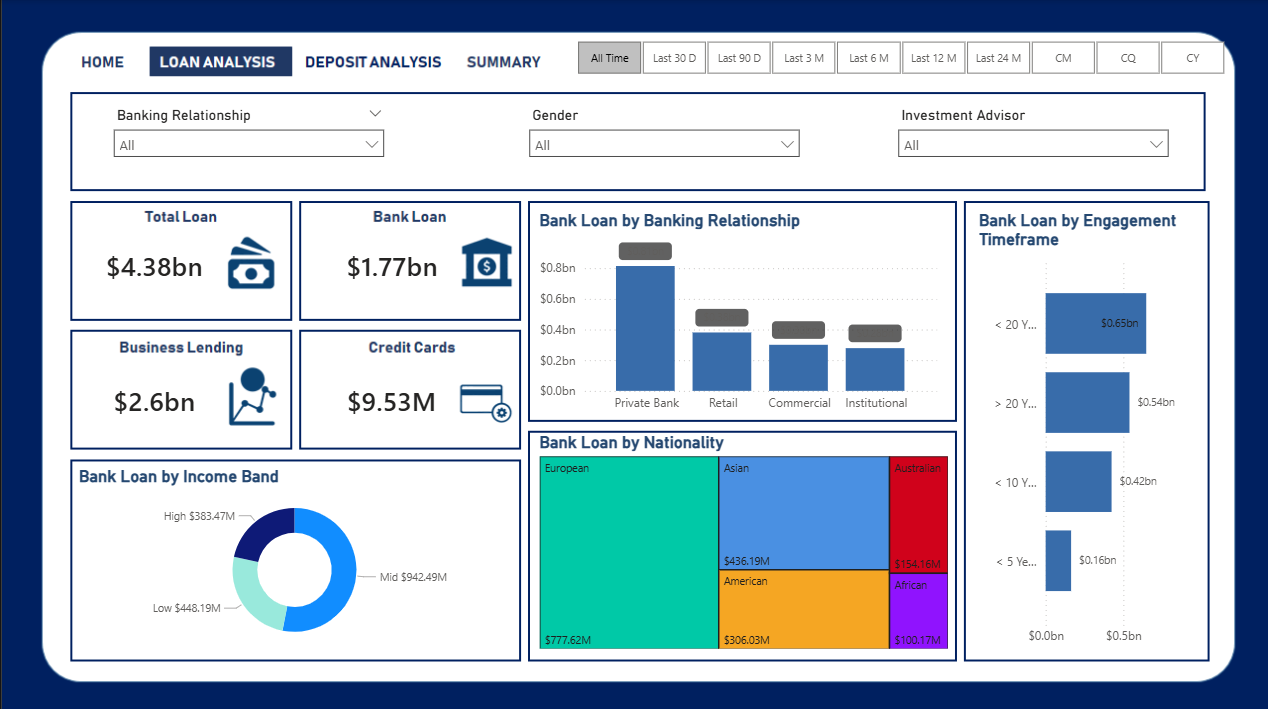

The page's visual inventory and layout, read from the dashboard file:
{"tool":"powerbi","page":{"name":"Loan Analysis","canvas":[1280,720],"ordinal":1},"visuals":[{"type":"card","fields":{"Values":["DAX Measures.Total Loan"]},"box":[72.7,224,161.8,90.3],"z":0},{"type":"card","fields":{"Values":["DAX Measures.Bank Loan"]},"box":[307.2,224,172.4,89.1],"z":1000},{"type":"card","fields":{"Values":["DAX Measures.Credit Cards"]},"box":[307.2,360,171.2,89.1],"z":2000},{"type":"card","fields":{"Values":["DAX Measures.Business Lending"]},"box":[72.7,360,161.8,89.1],"z":3000},{"type":"slicer","fields":{"Values":["Banking Relationship.Banking Relationship"]},"box":[102.3,103.4,292.9,75.7],"z":4000},{"type":"slicer","fields":{"Values":["Gender.Gender"]},"box":[522.7,103.4,292.9,75.7],"z":5000},{"type":"slicer","fields":{"Values":["Investment Advisor.Investment Advisor"]},"box":[895,103.4,292.9,75.7],"z":6000},{"type":"donutChart","fields":{"Category":["Clients - Banking.Income Band"],"Y":["DAX Measures.Bank Loan"]},"box":[72.7,471.4,444.4,188.8],"z":7000},{"type":"clusteredBarChart","fields":{"Category":["Clients - Banking.Engagement Timeframe"],"Y":["DAX Measures.Bank Loan"]},"box":[981.5,212.2,236.9,447.9],"z":8000},{"type":"treemap","fields":{"Group":["Clients - Banking.Nationality"],"Values":["DAX Measures.Bank Loan"]},"box":[538.2,436.2,422.1,224],"z":9000},{"type":"lineClusteredColumnComboChart","fields":{"Y":["DAX Measures.Bank Loan"],"Category":["Banking Relationship.Banking Relationship"]},"box":[538.2,212.2,411.6,212.2],"z":10000},{"type":"slicer","fields":{"Values":["Period.Name"]},"box":[555.2,34.6,702.1,46.6],"z":11000},{"type":"actionButton","box":[72.8,44.2,58.5,31],"z":12000},{"type":"actionButton","box":[306.9,44.7,119.4,31],"z":13000},{"type":"actionButton","box":[471.6,44.2,83.6,31],"z":14000}]}

Visuals, with their boxes in screenshot pixels (x1, y1, x2, y2), scaled from the page's 1280x720 canvas onto the 1268x709 screenshot:
card - DAX Measures.Total Loan: l=72, t=221, r=232, b=309
card - DAX Measures.Bank Loan: l=304, t=221, r=475, b=308
card - DAX Measures.Credit Cards: l=304, t=354, r=474, b=442
card - DAX Measures.Business Lending: l=72, t=354, r=232, b=442
slicer - Banking Relationship.Banking Relationship: l=101, t=102, r=391, b=176
slicer - Gender.Gender: l=518, t=102, r=808, b=176
slicer - Investment Advisor.Investment Advisor: l=887, t=102, r=1177, b=176
donutChart - Clients - Banking.Income Band x DAX Measures.Bank Loan: l=72, t=464, r=512, b=650
clusteredBarChart - Clients - Banking.Engagement Timeframe x DAX Measures.Bank Loan: l=972, t=209, r=1207, b=650
treemap - Clients - Banking.Nationality x DAX Measures.Bank Loan: l=533, t=430, r=951, b=650
lineClusteredColumnComboChart - DAX Measures.Bank Loan x Banking Relationship.Banking Relationship: l=533, t=209, r=941, b=418
slicer - Period.Name: l=550, t=34, r=1246, b=80
actionButton: l=72, t=44, r=130, b=74
actionButton: l=304, t=44, r=422, b=75
actionButton: l=467, t=44, r=550, b=74
